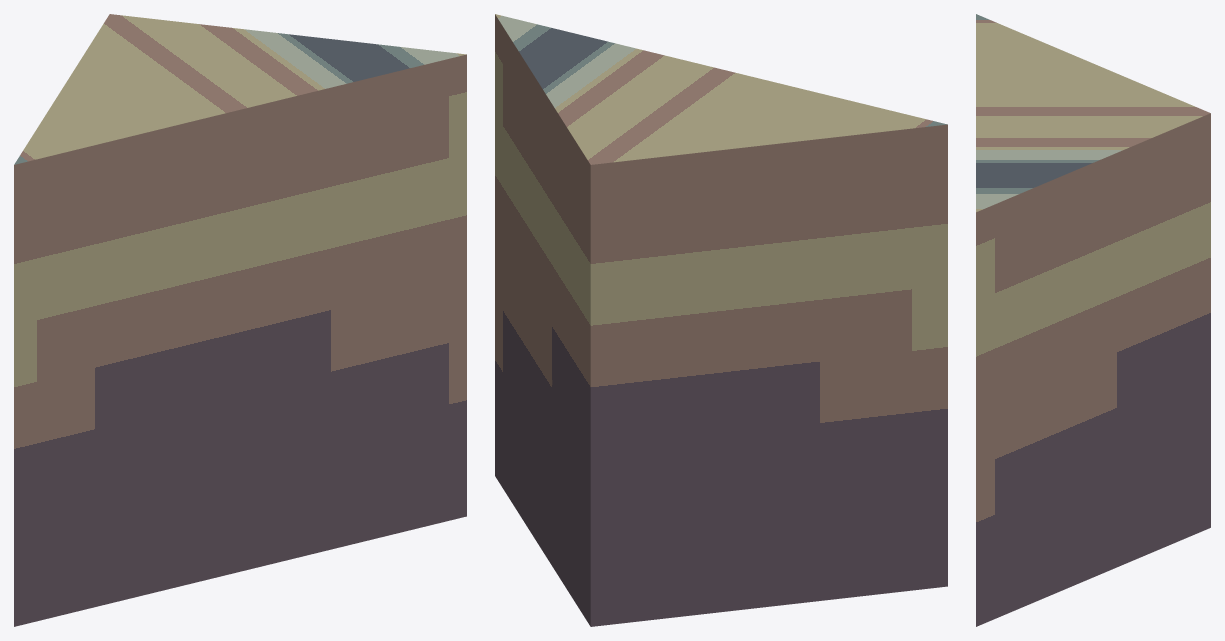
Rendered from character_neck.glb.
3 renders of one model, left to right at view 1: azimuth 30°, elevation 25°; view 2: azimuth 150°, elevation 25°; view 3: azimuth 270°, elevation 25°, orthographic. The views are drawn at different scales.
Parts seen in each view (by area): view 1: Cube.053; view 2: Cube.053; view 3: Cube.053.
Boxes of the visible parts, bbox=[...] form: Cube.053: bbox=[14, 14, 466, 626]; Cube.053: bbox=[495, 14, 947, 626]; Cube.053: bbox=[976, 14, 1210, 626].
Size of the model in its own units: 0.7504 by 0.7313 by 0.3752.
Materials: 1 (1 with a texture image).
